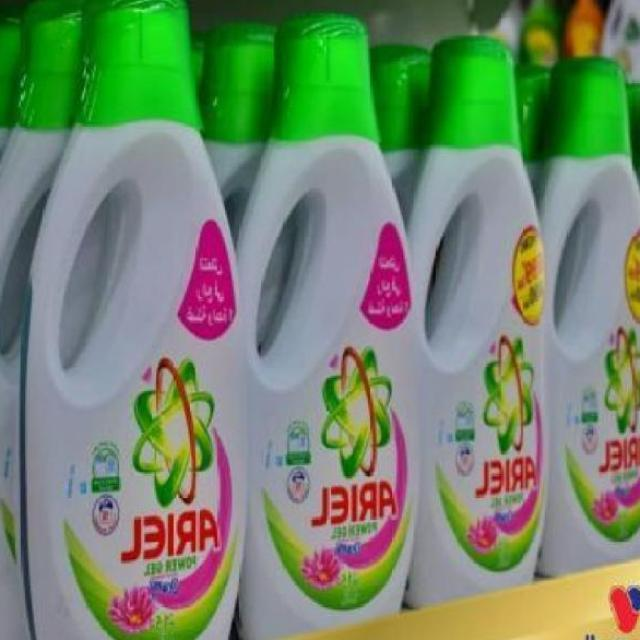Detergent: (19, 0, 246, 640), (242, 4, 424, 636), (412, 37, 560, 602), (543, 56, 640, 573)
